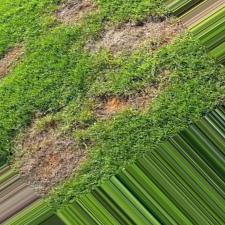patch: (24, 145, 58, 174), (113, 29, 140, 42), (107, 99, 126, 111), (64, 146, 76, 165), (35, 129, 53, 140), (5, 54, 10, 59)
